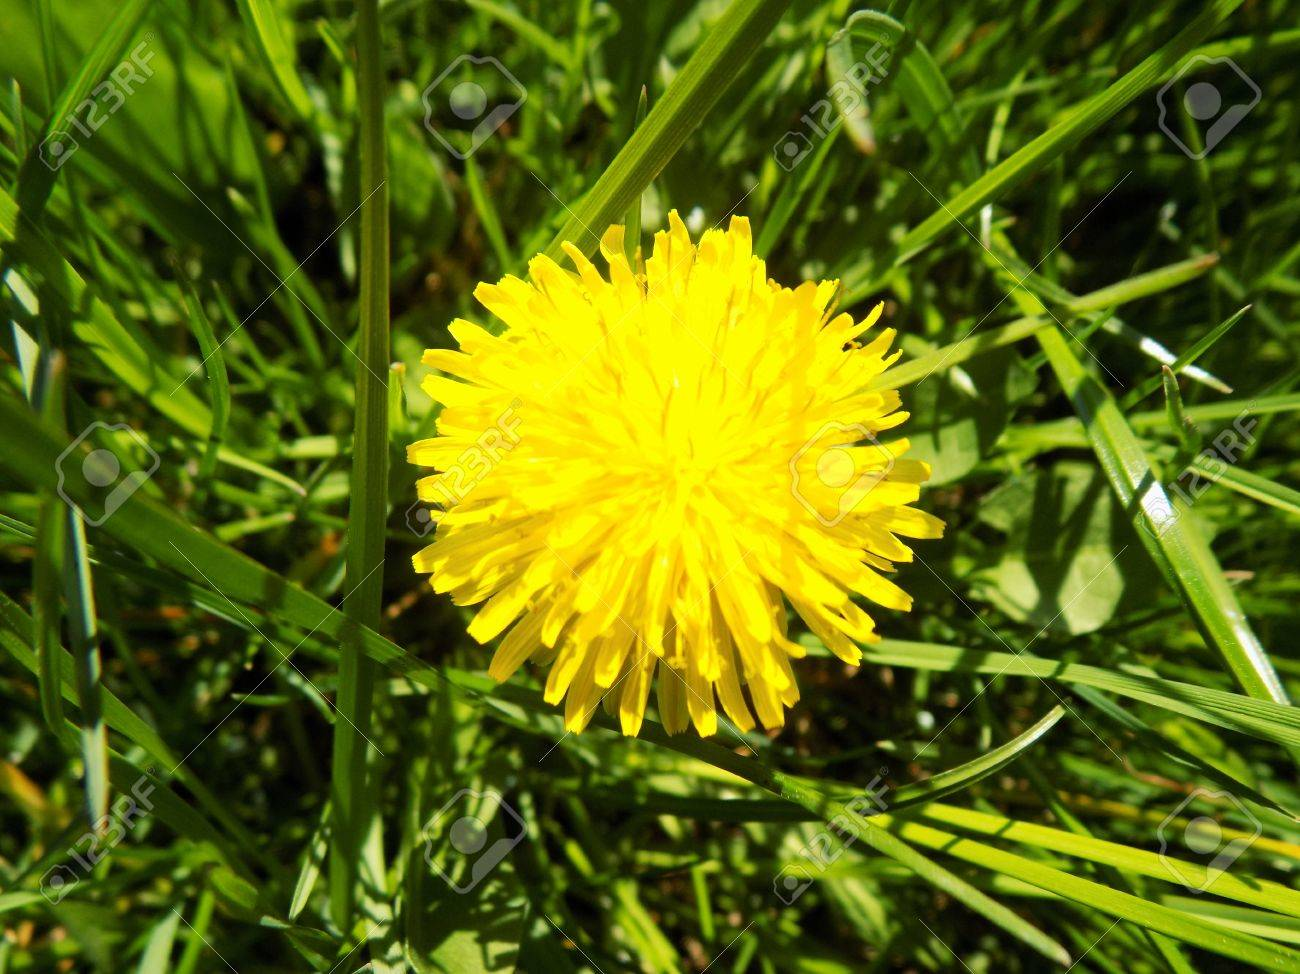dandelion: (361, 225, 895, 702)
